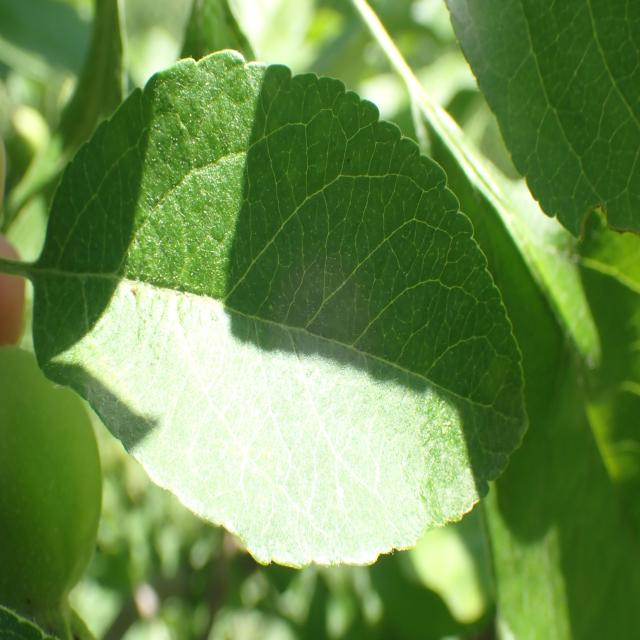healthy: (33, 48, 529, 570), (445, 0, 640, 245)
